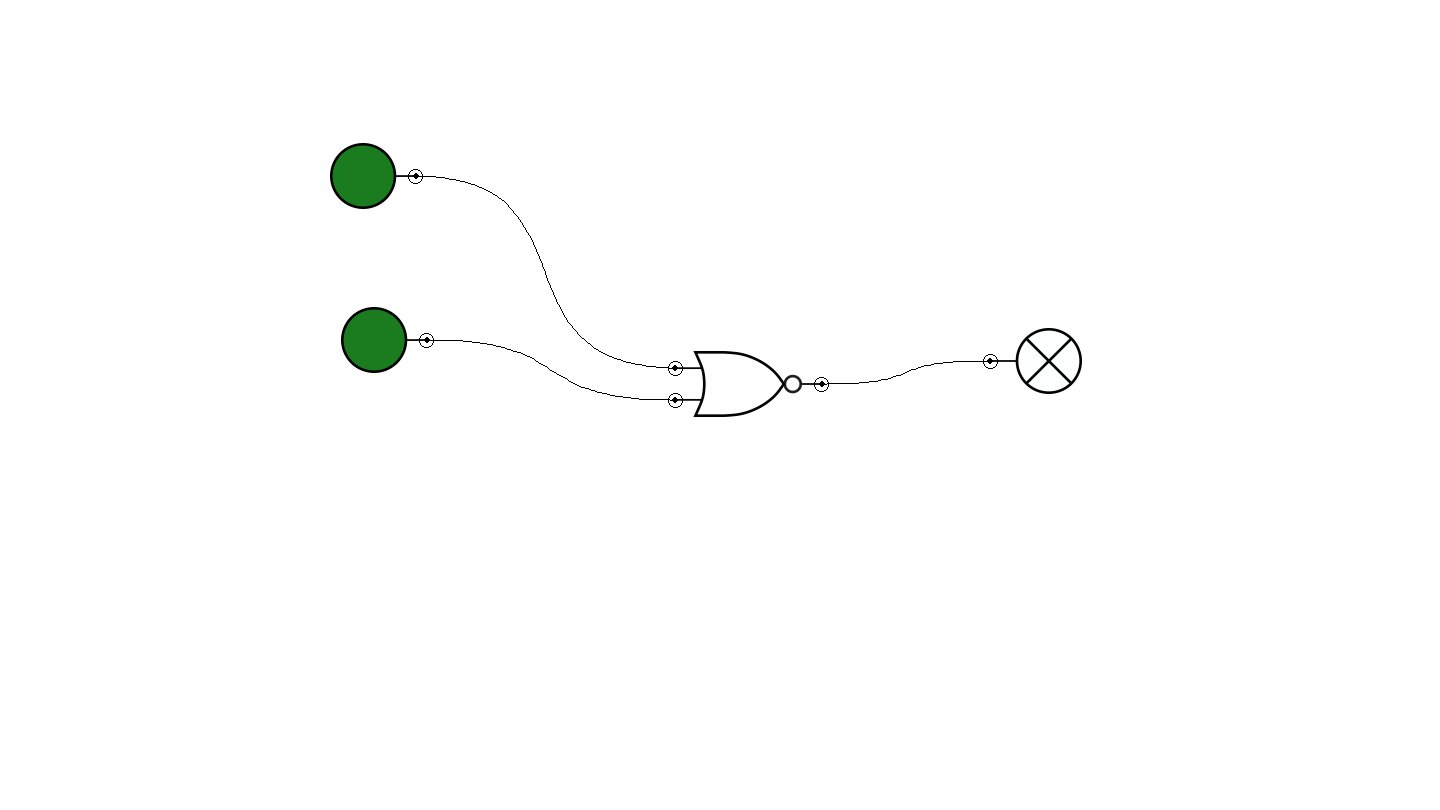bulb: (983, 328, 1082, 394)
nor: (668, 351, 829, 417)
switch_True: (341, 307, 434, 373), (330, 143, 423, 209)
